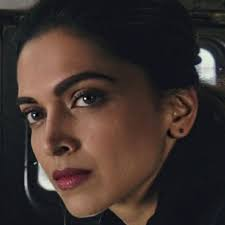n.sharp: (41, 103, 79, 152)
